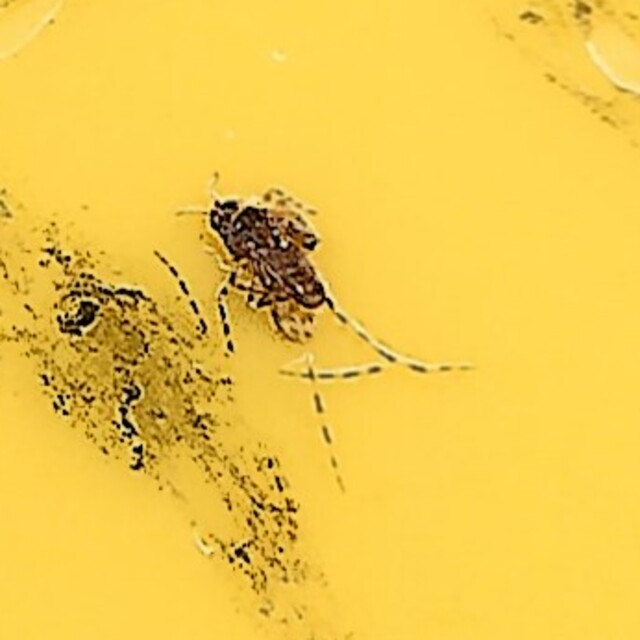Nematocera: (185, 183, 455, 457)
